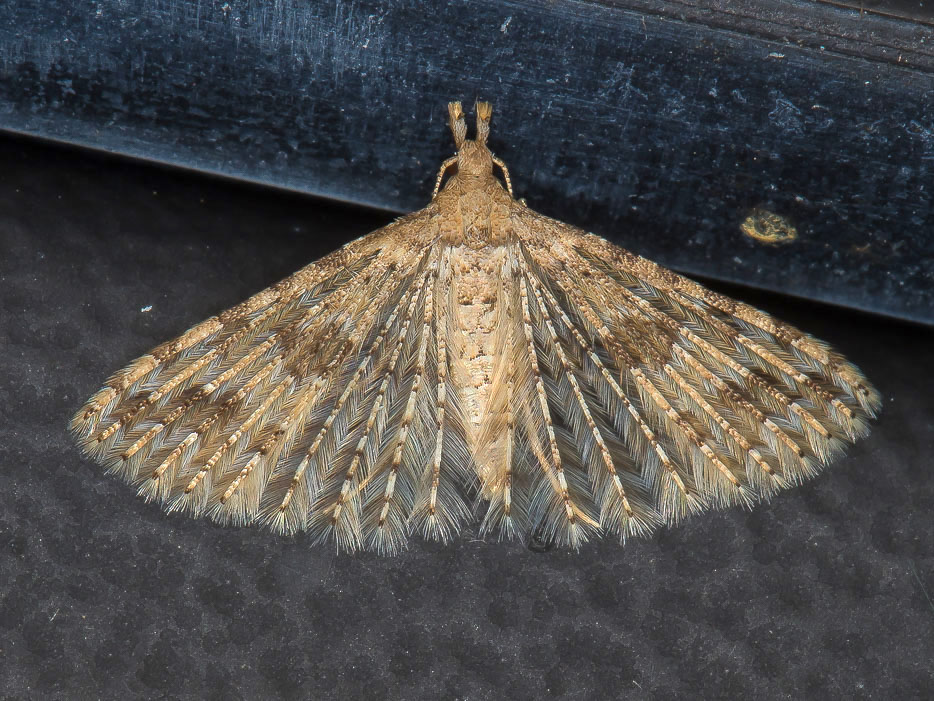Alucitidae: (50, 93, 890, 571)
moth: (48, 91, 888, 569)
